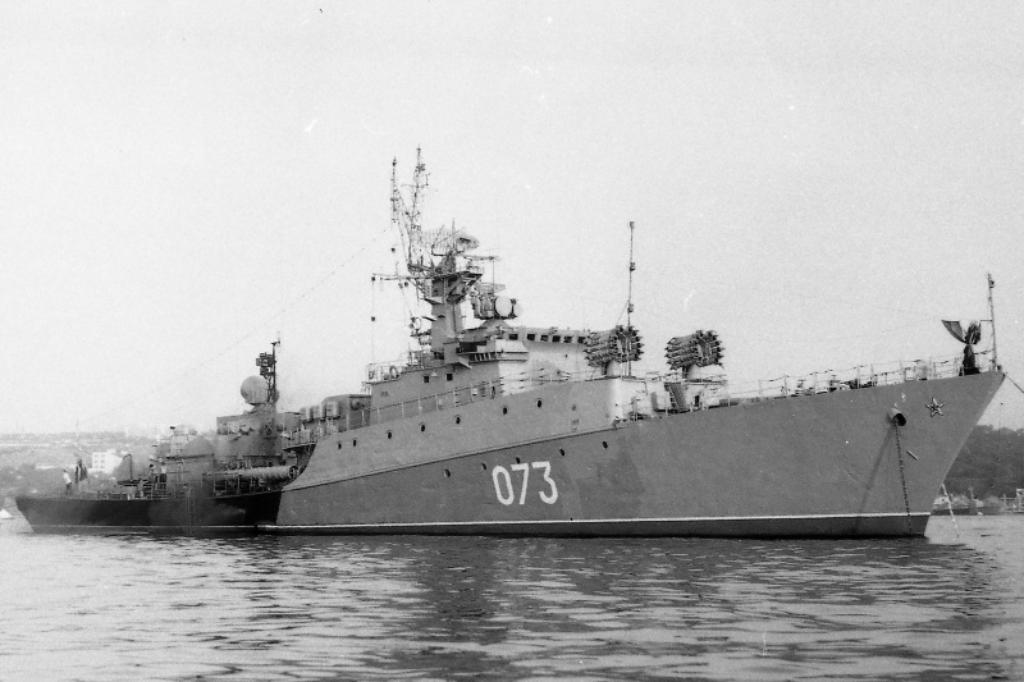Warship: (13, 143, 1009, 539)
